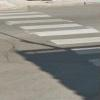Crosswalk: (5, 3, 96, 59)
